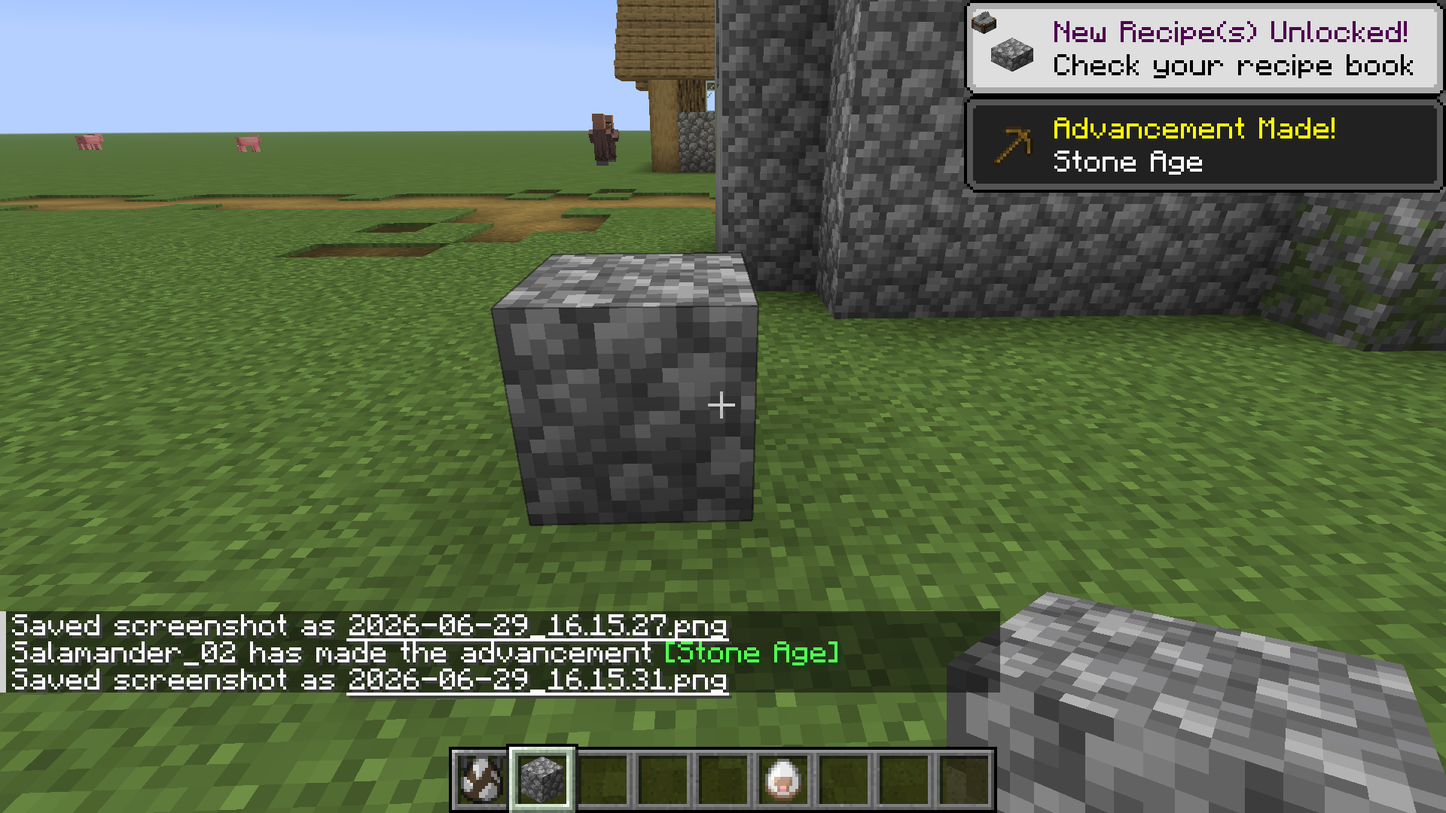cablestone: (490, 253, 757, 527), (969, 196, 1103, 306), (1115, 201, 1252, 308), (840, 199, 957, 310), (725, 79, 831, 193), (846, 103, 966, 200), (721, 0, 842, 86), (722, 188, 823, 287), (856, 6, 960, 100), (681, 118, 718, 174)
villager: (583, 110, 625, 166)
